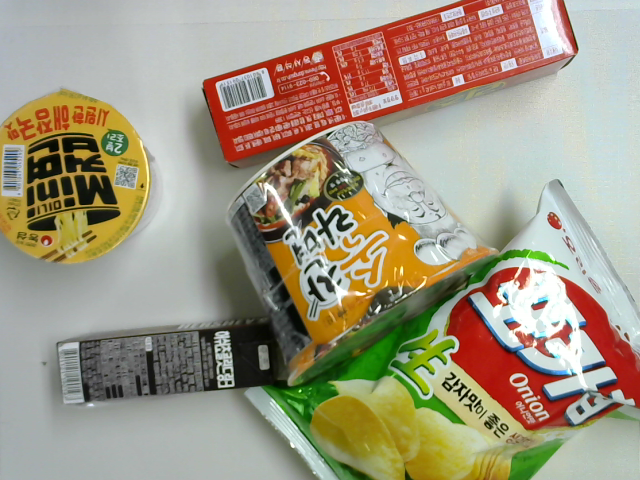Hejangchan: (227, 121, 502, 392)
Hejangmini: (1, 86, 163, 268)
Hush_Choco_Drink: (50, 310, 292, 410)
Pocachip_Onion: (248, 174, 640, 479)
Ritz_Cracker: (197, 1, 578, 173)
